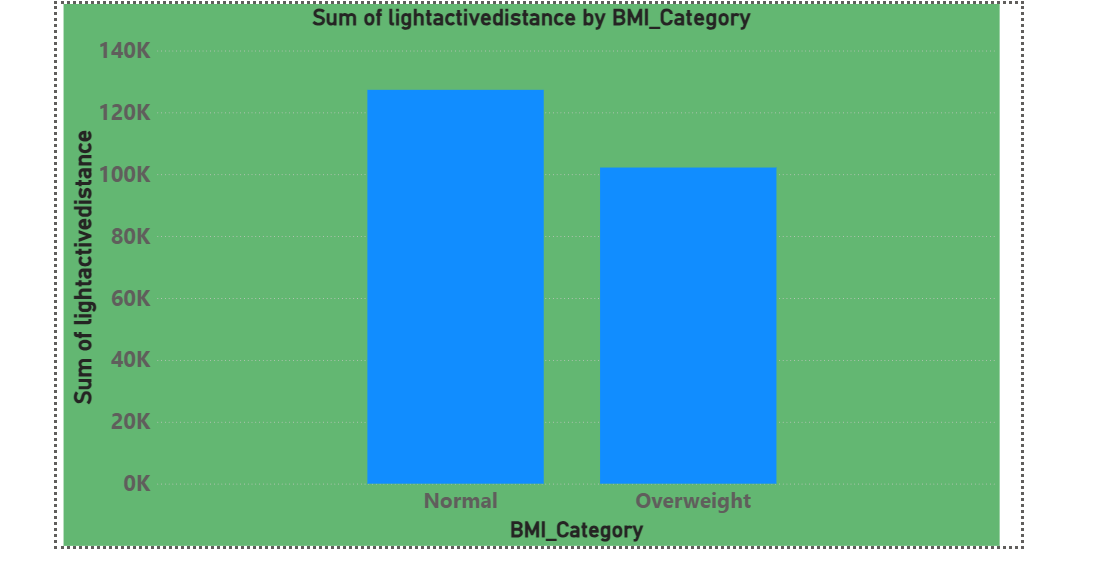

The dashboard page shown, as its layout file describes it:
{"tool":"powerbi","page":{"name":"Page 7","canvas":[1280,720],"ordinal":6},"visuals":[{"type":"columnChart","fields":{"Category":["public merged_table.BMI_Category"],"Y":["Sum(public merged_table.lightactivedistance)"]},"box":[9.3,0,1242.6,719.1],"z":0}]}

Visuals, with their boxes on the page's 1280x720 design canvas (x1, y1, x2, y2). These are canvas units, not pixel positions in the 1115x586 screenshot, which may show the page scaled, cropped or inside an application window:
columnChart - public merged_table.BMI_Category x Sum(public merged_table.lightactivedistance): x1=9 y1=0 x2=1252 y2=719
